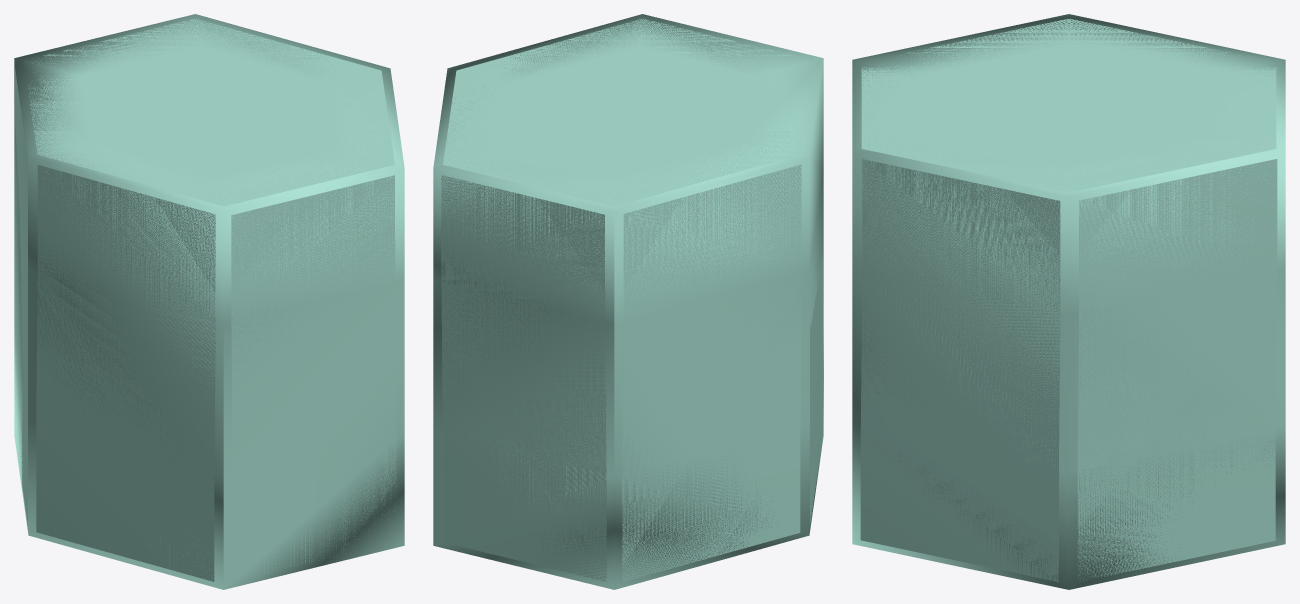
Rendered from space-kit__barrel.glb.
3 renders of one model, left to right at view 1: azimuth 30°, elevation 25°; view 2: azimuth 150°, elevation 25°; view 3: azimuth 270°, elevation 25°, orthographic. The views are drawn at different scales.
Visible parts, largest first — view 1: L0_accent, L1_accent; view 2: L0_accent, L1_accent; view 3: L0_accent, L1_accent.
Part boxes in pixels (x1,y1,x2,y2): L0_accent: (15,19,396,581); L1_accent: (14,14,404,589); L0_accent: (441,19,822,581); L1_accent: (433,14,823,589); L0_accent: (860,18,1277,582); L1_accent: (852,14,1285,589).
Size of the model in its own units: 1 by 1 by 1.
